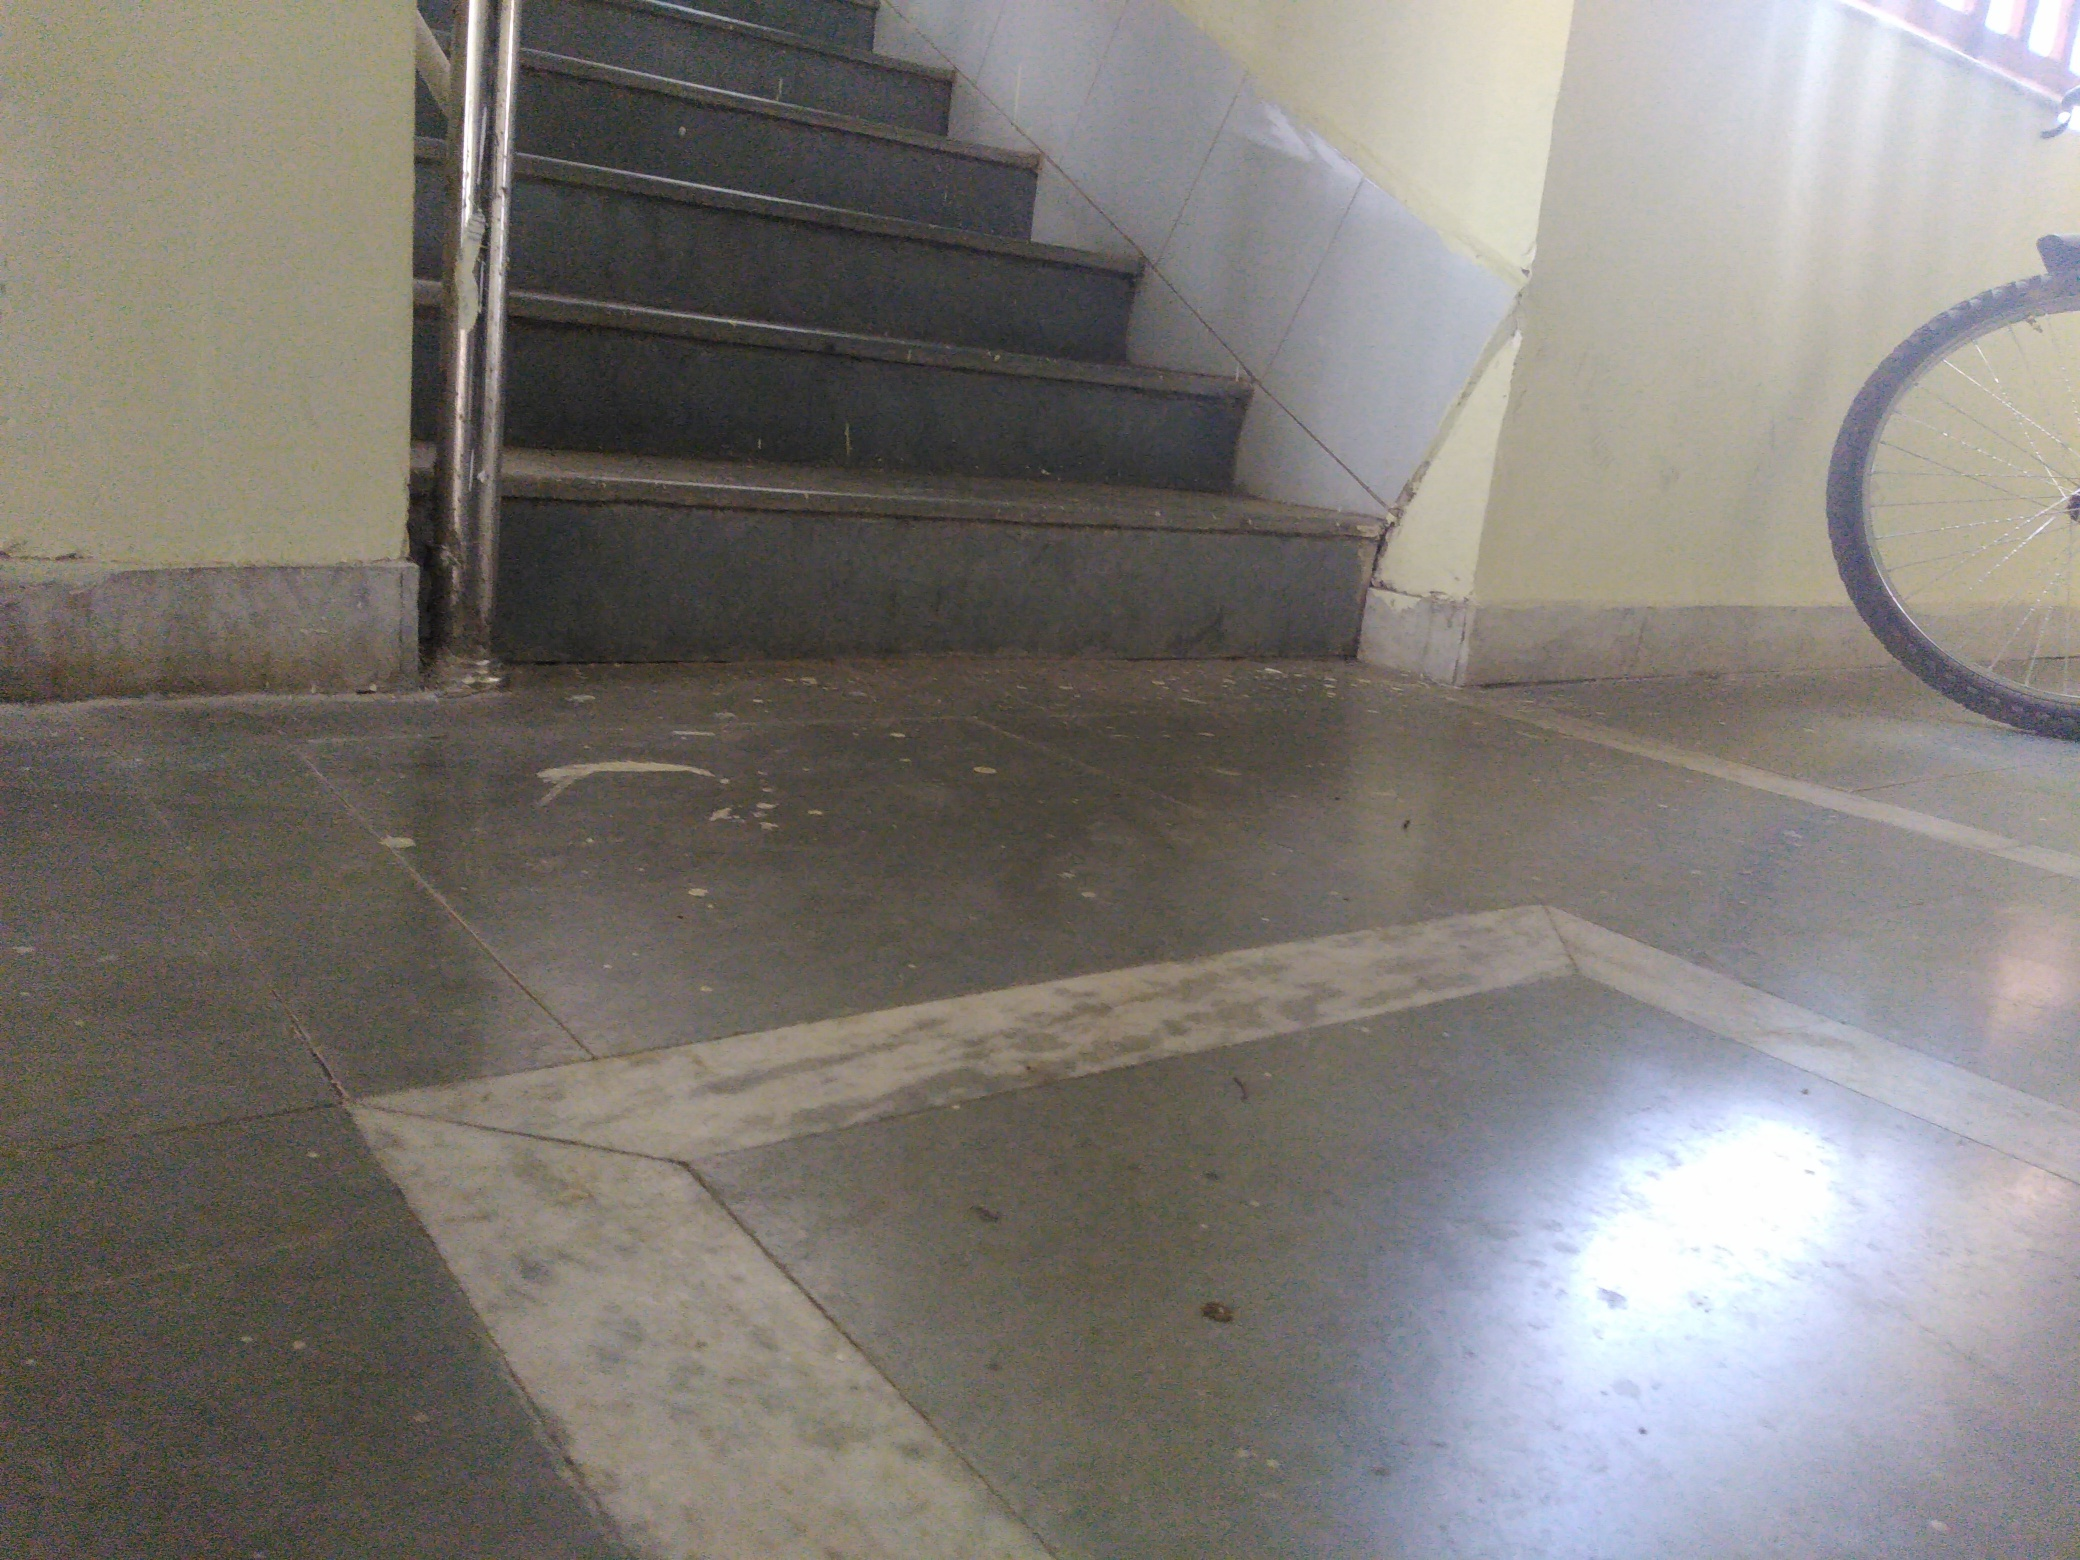stairs_up: (513, 2, 1412, 677)
